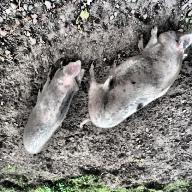boar: (79, 24, 192, 127), (24, 57, 85, 153)
